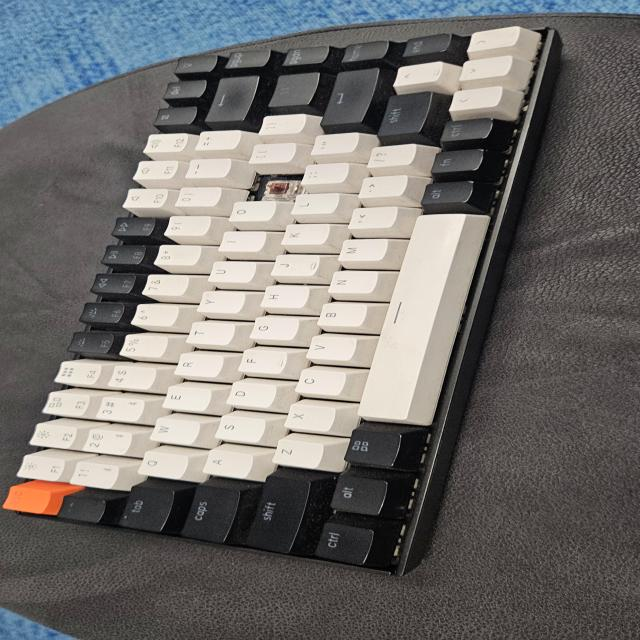C: (258, 177, 287, 197)
